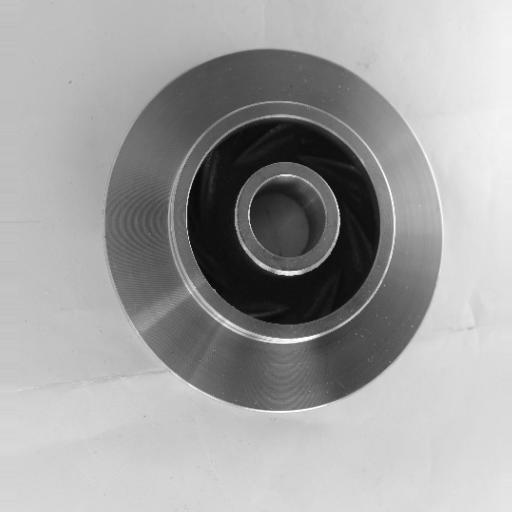polished_casting: (105, 45, 449, 420)
